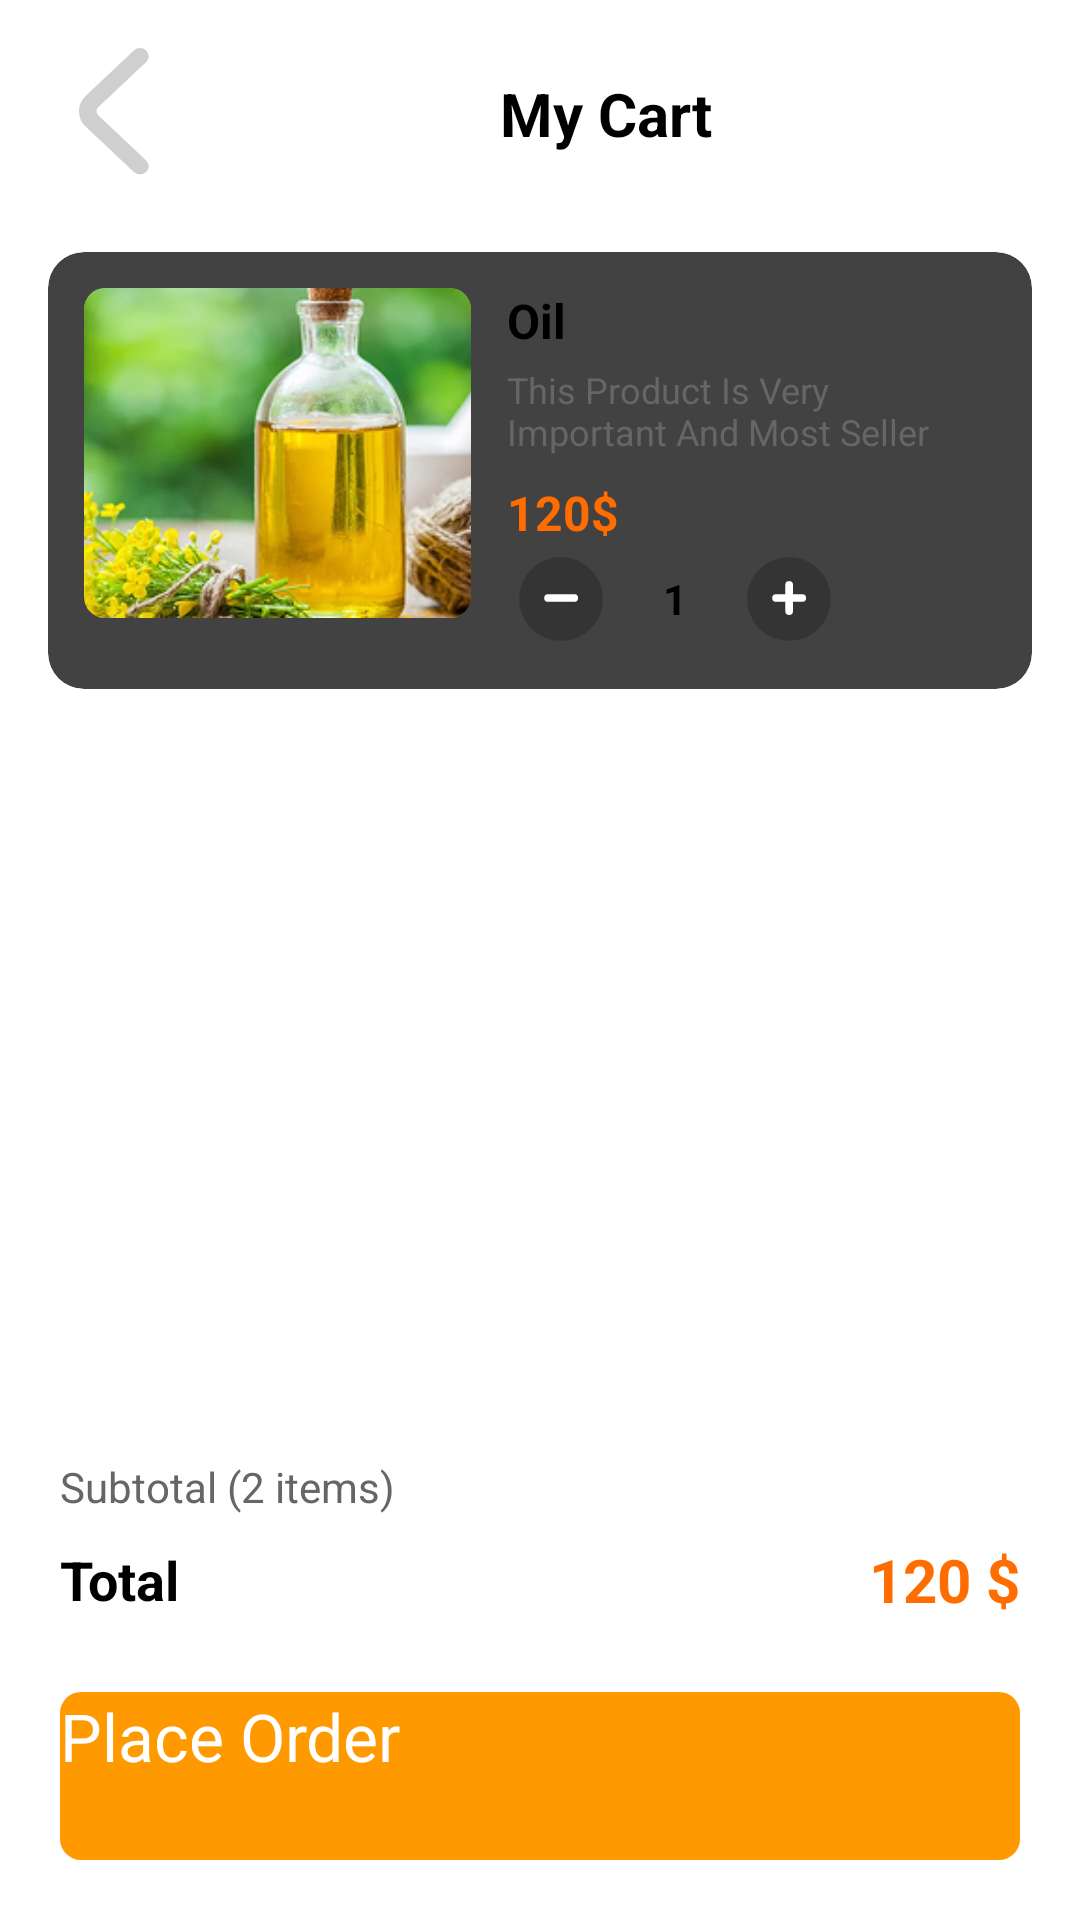

Where icons sit on this 1080 × 1920 app screen, as (x1, y1, x2, y2):
arrow back: (79, 48, 149, 174)
minus: (544, 594, 578, 602)
plus: (747, 557, 831, 641)
